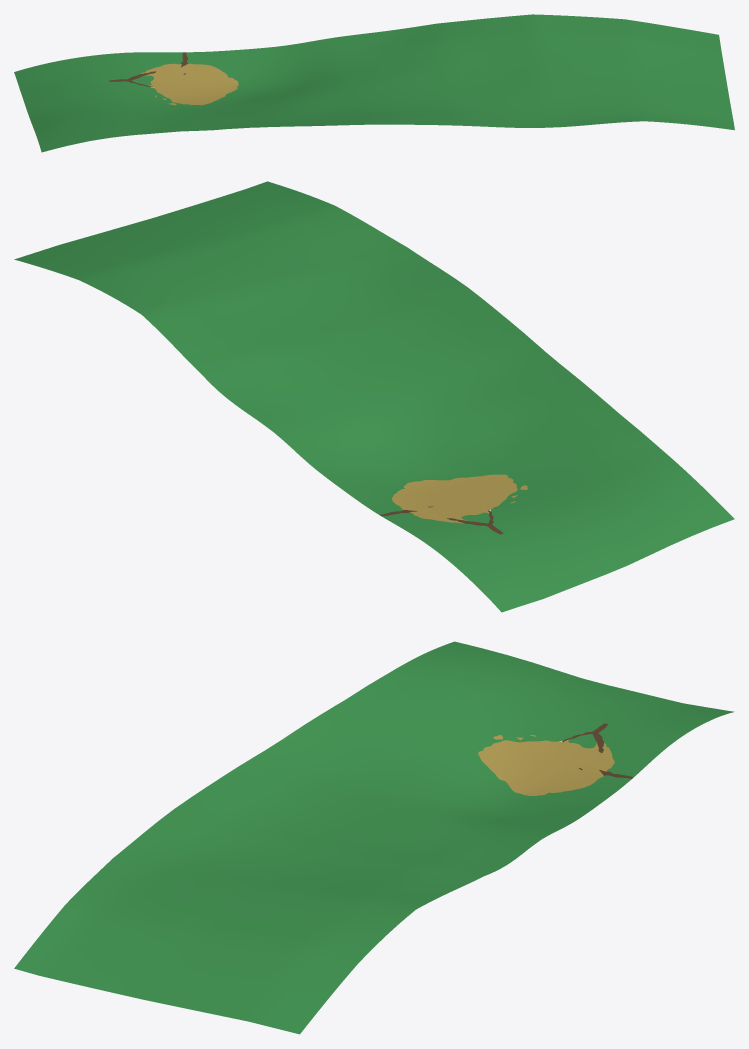
Rendered from Placeholder_module07_open_space.fbx.
The picture shows the model from 3 angles, top to bottom: view 1: azimuth 30°, elevation 25°; view 2: azimuth 150°, elevation 25°; view 3: azimuth 270°, elevation 25°; orthographic projection. The views are drawn at different scales.
Visible parts, largest first — view 1: Module6_open_space02; view 2: Module6_open_space02; view 3: Module6_open_space02.
Boxes of the visible parts, x1,y1,x2,y2 form: Module6_open_space02: (14, 14, 734, 152); Module6_open_space02: (14, 181, 734, 612); Module6_open_space02: (14, 641, 734, 1034).
Size of the model in its own units: 32.92 by 2.41 by 24.78.
